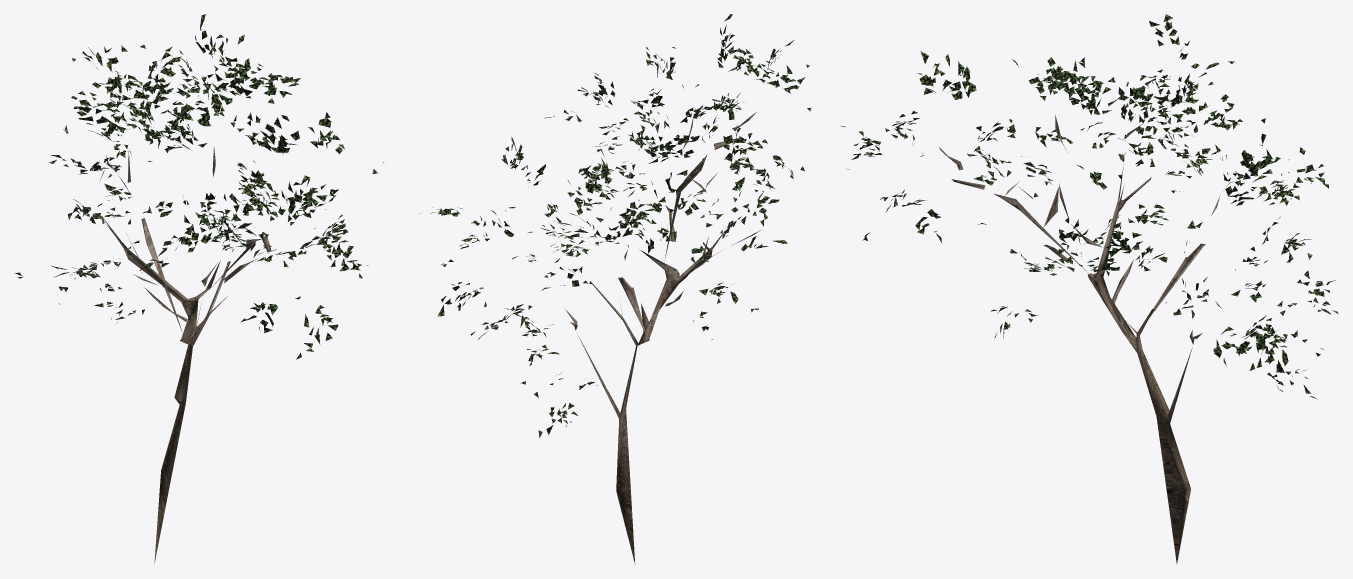
File: tree-distant.glb
3 views of the same model, side by side, from view 1: azimuth 30°, elevation 25°; view 2: azimuth 150°, elevation 25°; view 3: azimuth 270°, elevation 25° (orthographic). The views are drawn at different scales.
Visible parts, largest first — view 1: tree_small_02_LOD0; view 2: tree_small_02_LOD0; view 3: tree_small_02_LOD0.
Boxes of the visible parts, x1,y1,x2,y2 form: tree_small_02_LOD0: (15,14,383,563); tree_small_02_LOD0: (419,14,811,564); tree_small_02_LOD0: (840,14,1338,563).
Bounding box in the file's own units: 2.78 × 4.49 × 3.94.
3 materials, 3 textured.
